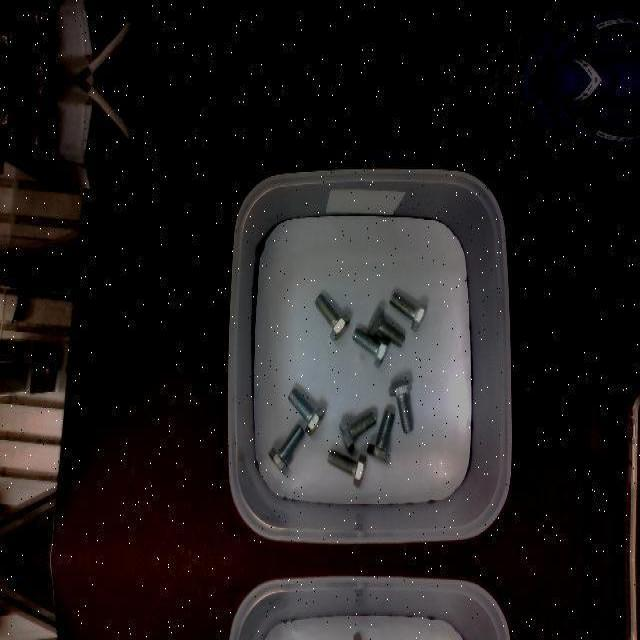screw: (288, 386, 325, 436), (268, 424, 304, 474), (314, 294, 350, 342), (367, 306, 405, 348), (339, 411, 376, 453), (389, 292, 427, 332), (351, 327, 389, 367), (366, 409, 394, 463), (327, 449, 366, 487), (388, 378, 413, 432), (326, 632, 365, 640)
